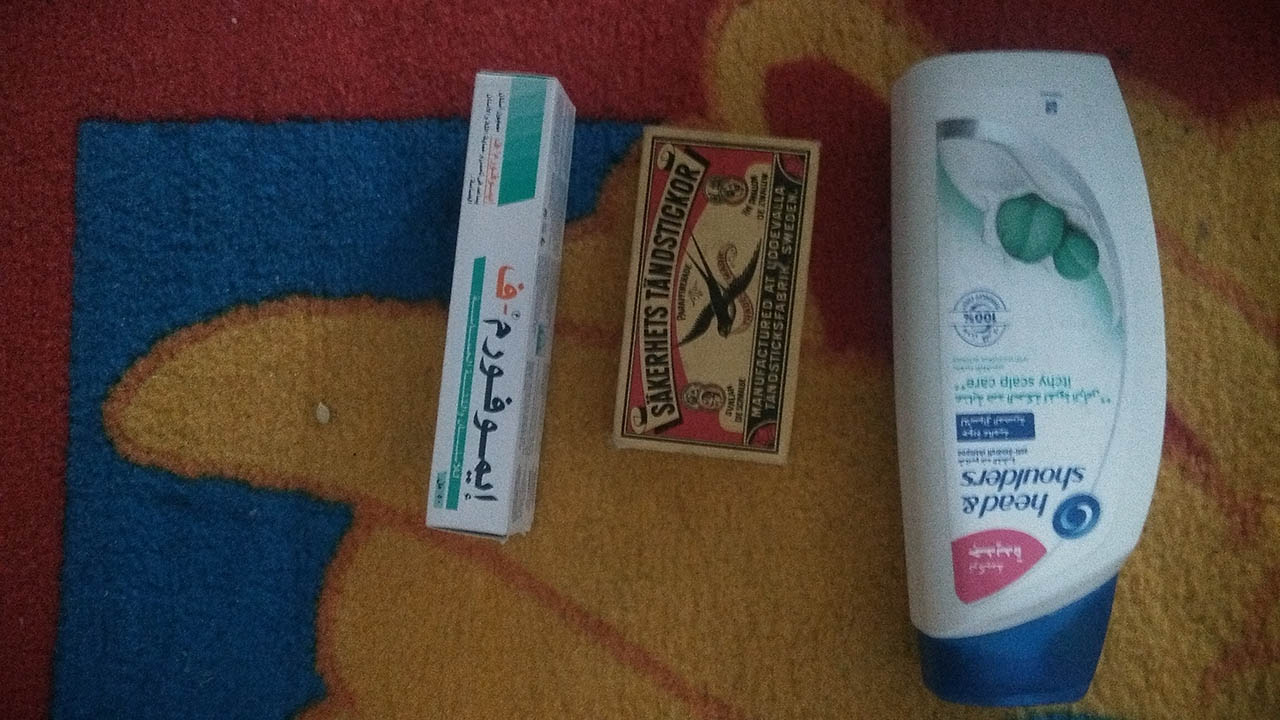Toothpaste-F 1.5$: (396, 59, 590, 543)
match-sticks .90$: (608, 88, 820, 489)
shampoo-green 4.5$: (868, 25, 1177, 707)
